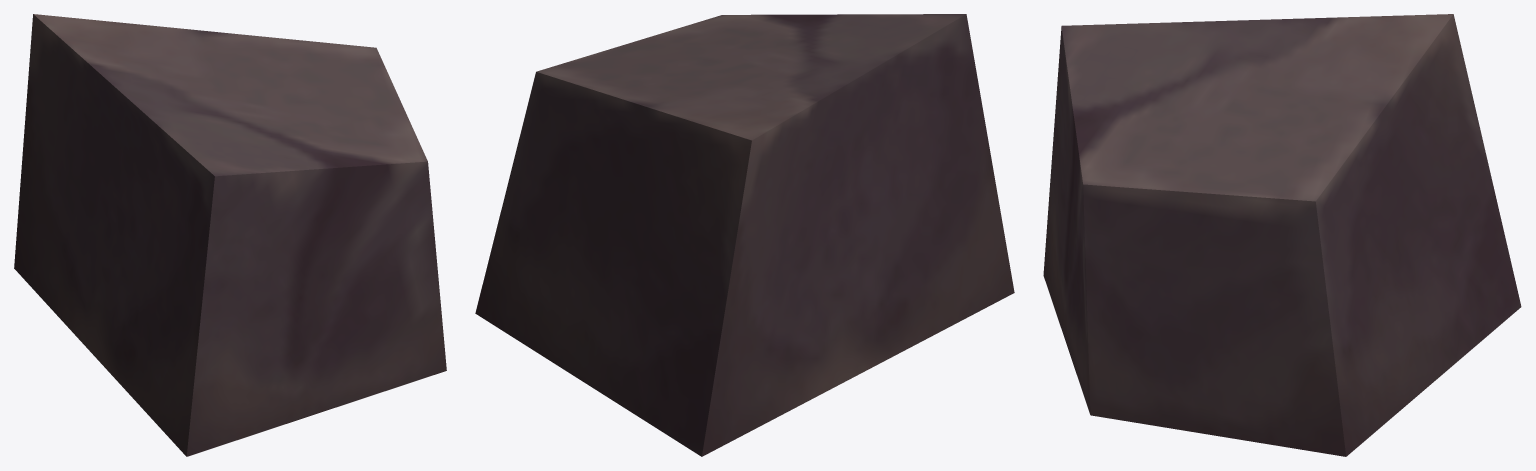
File: Boss_04.FBX
3 renders of one model, left to right at view 1: azimuth 30°, elevation 25°; view 2: azimuth 150°, elevation 25°; view 3: azimuth 270°, elevation 25°, orthographic. The views are drawn at different scales.
Parts seen in each view (by area): view 1: Boss_04; view 2: Boss_04; view 3: Boss_04.
Boxes of the visible parts, x1,y1,x2,y2 form: Boss_04: (14, 14, 446, 456); Boss_04: (475, 14, 1014, 456); Boss_04: (1043, 14, 1521, 456).
Bounding box in the file's own units: 1.19 × 0.8735 × 1.32.
